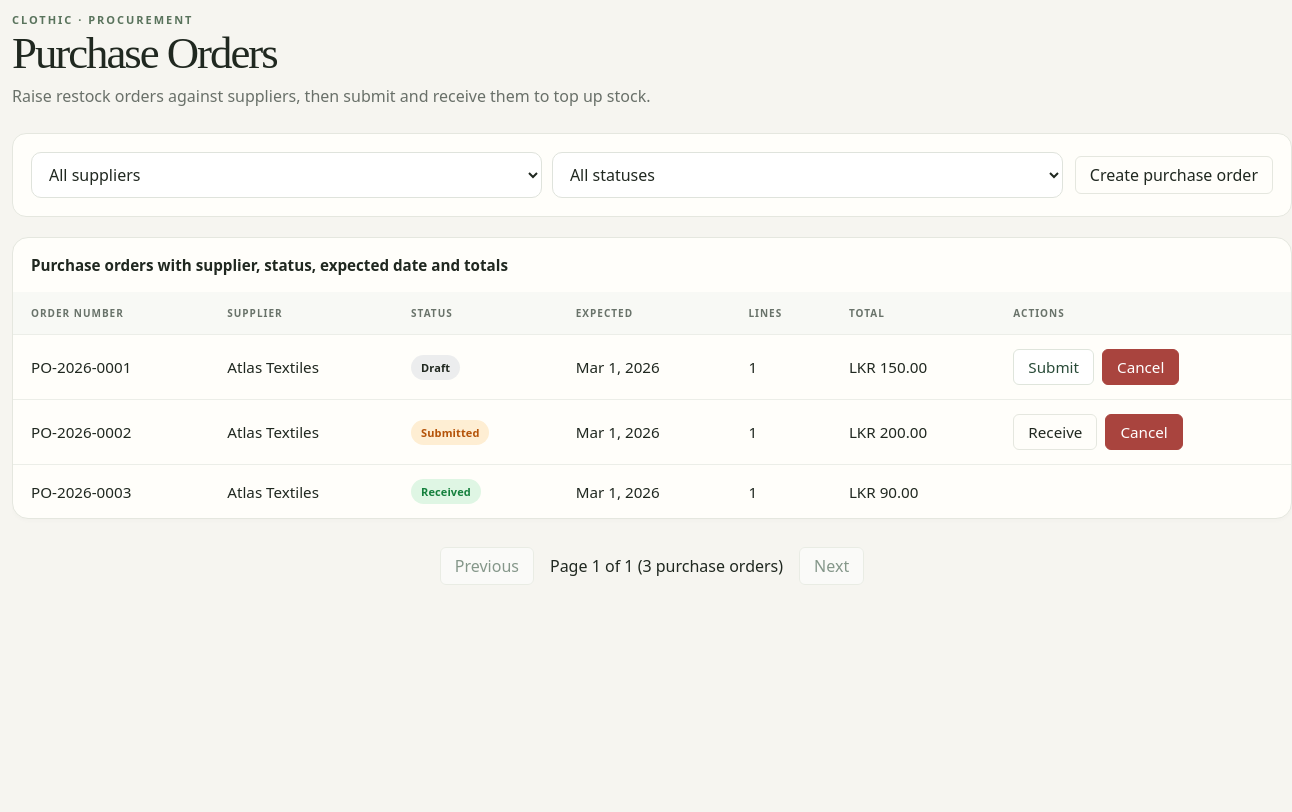
Test: PurchaseOrdersPage › cancels a draft purchase order after confirmation
Click the button with aria-label "Cancel PO-2026-0001" at (1141, 367), box x1=1102 y1=349 x2=1179 y2=385
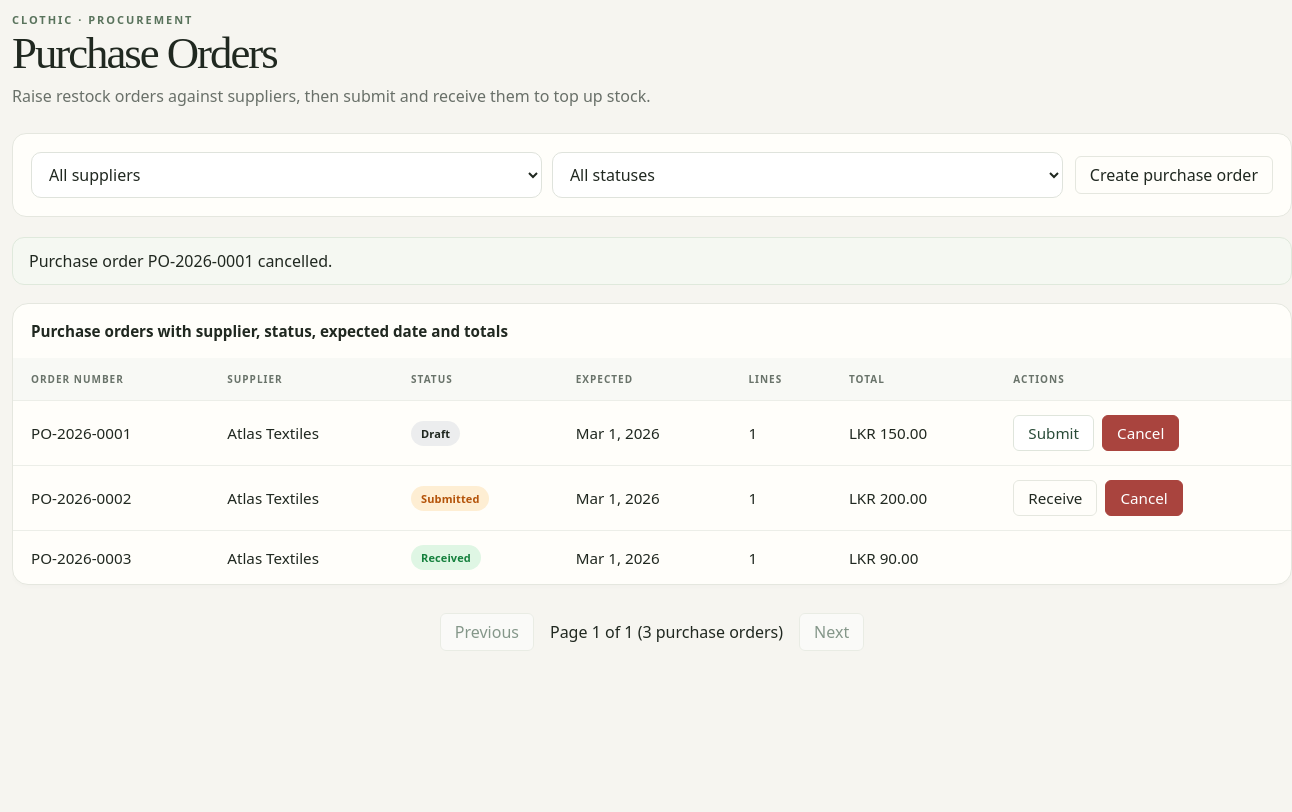
Result: the text "Purchase order PO-2026-0001 cancelled." is shown at x1=12 y1=237 x2=1291 y2=285
